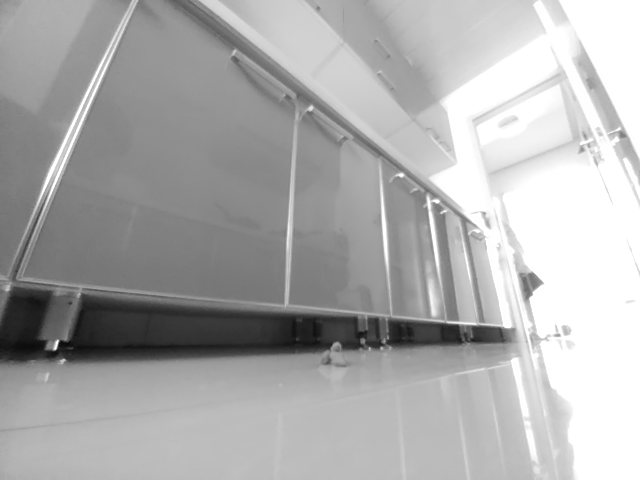pet feces: (318, 342, 351, 368)
